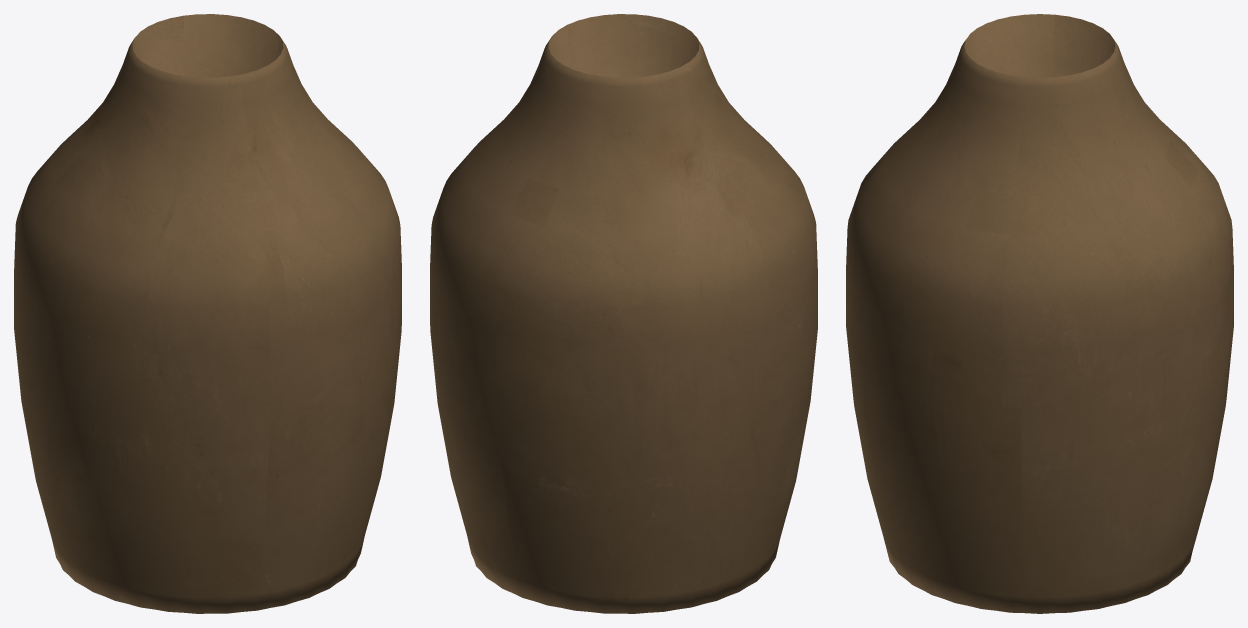
Rendered from vase.glb.
3 views of the same model, side by side, from view 1: azimuth 30°, elevation 25°; view 2: azimuth 150°, elevation 25°; view 3: azimuth 270°, elevation 25° (orthographic).
Parts seen in each view (by area): view 1: Cylinder; view 2: Cylinder; view 3: Cylinder.
Part boxes in pixels (bbox=[...]): Cylinder: bbox=[14, 14, 401, 613]; Cylinder: bbox=[430, 14, 817, 613]; Cylinder: bbox=[846, 14, 1233, 613].
Size of the model in its own units: 1.99 by 2.86 by 1.99.
Materials: 1 (1 with a texture image).
